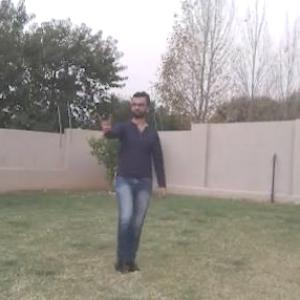takeoff-hand: (92, 107, 116, 138)
